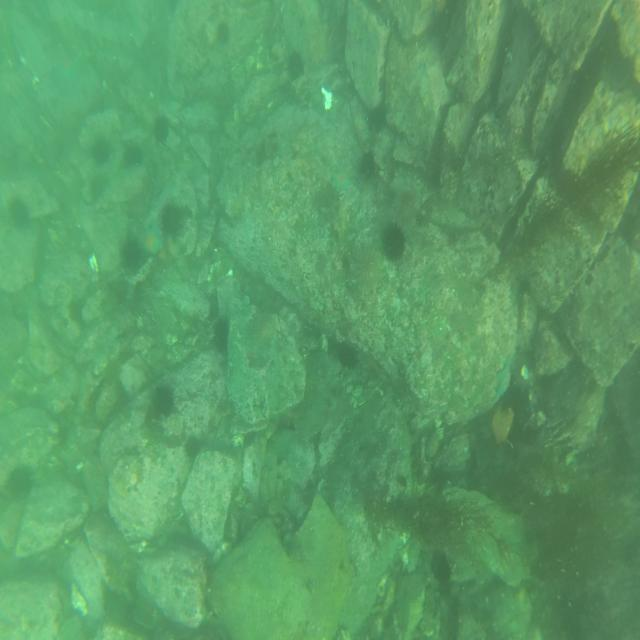echinus: (353, 242, 382, 289), (381, 218, 405, 264), (158, 203, 183, 238), (122, 238, 146, 274), (10, 468, 35, 502), (152, 386, 172, 421), (10, 196, 30, 228), (286, 51, 304, 84), (91, 135, 110, 163), (152, 114, 170, 142), (216, 319, 230, 350), (124, 142, 142, 166)
starfish: (496, 360, 512, 406), (141, 225, 162, 257), (332, 166, 349, 194)
